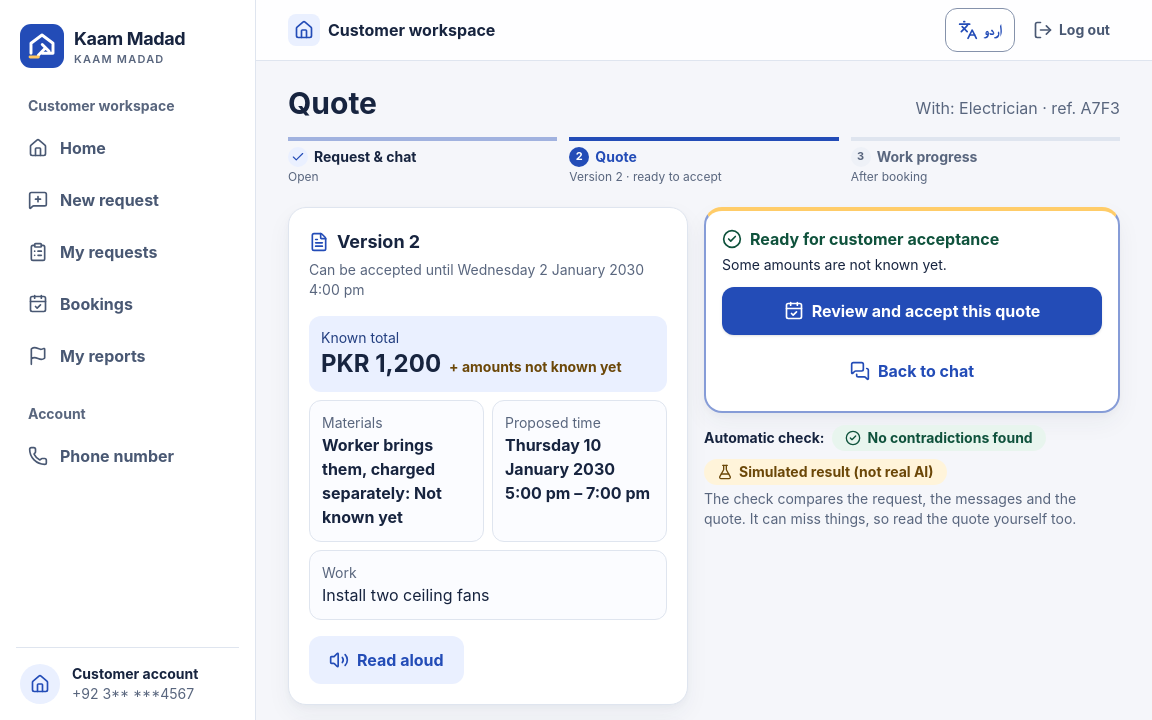
accepting a quote › a stale quote shows the conflict and reloads the quotes
Click the button "Review and accept this quote".
click(912, 311)  # box 722,287 -> 1102,335
(page scrolled)
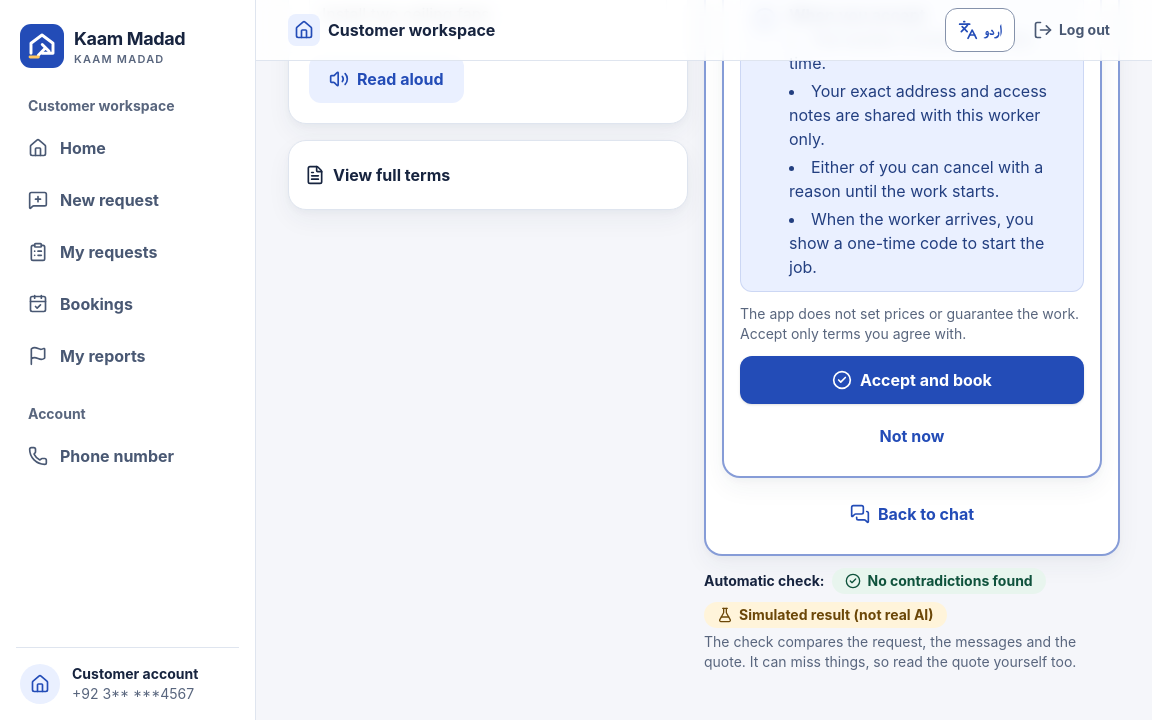
Click the button "Accept and book".
click(912, 380)  # box 740,356 -> 1084,404
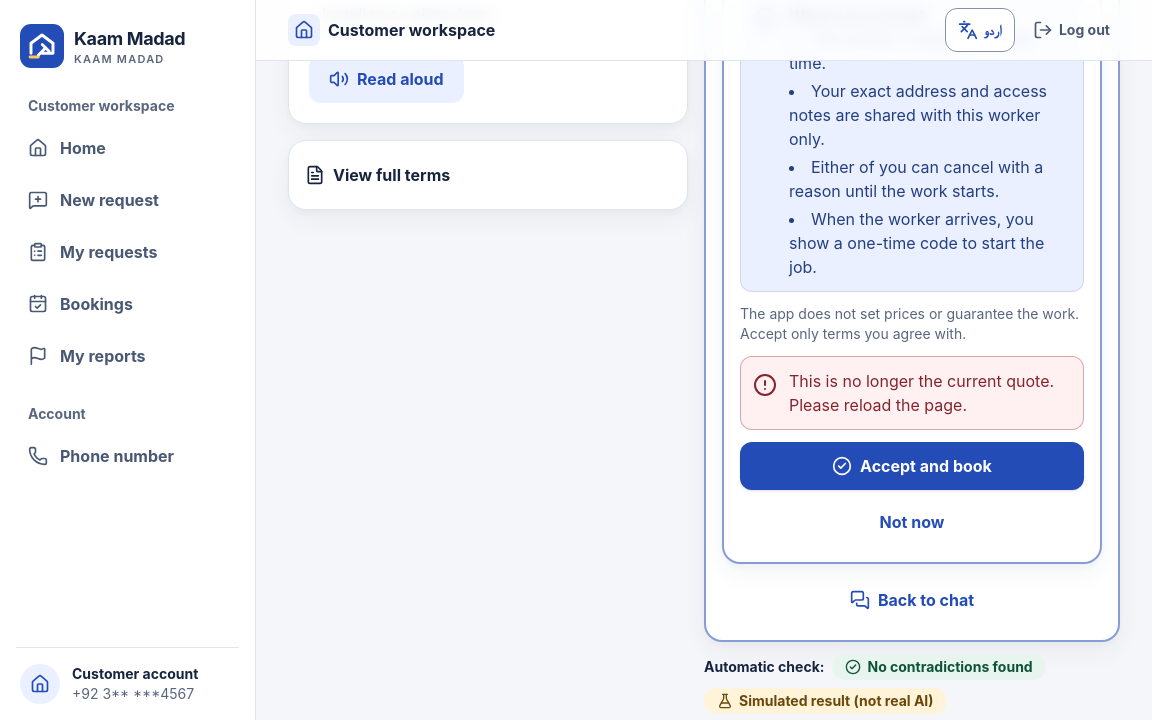
Check: the text "This is no longer the current quote. Please reload the page." is shown, box 789,369 -> 1071,417
